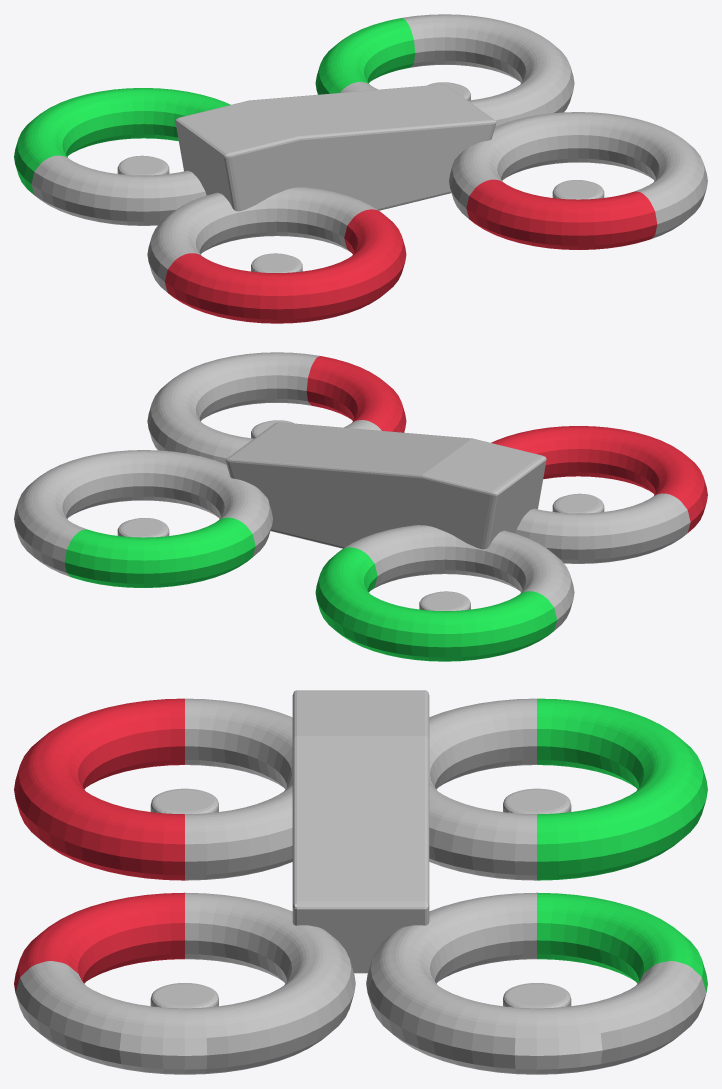
The model's file is DroneBlack.fbx.
3 renders of one model, top to bottom at view 1: azimuth 30°, elevation 25°; view 2: azimuth 150°, elevation 25°; view 3: azimuth 270°, elevation 25°, orthographic. The views are drawn at different scales.
Visible parts, largest first — view 1: Drone; view 2: Drone; view 3: Drone.
Boxes of the visible parts, box(x1,y1,x2,y2) form: Drone: box(14, 14, 707, 323); Drone: box(14, 352, 707, 661); Drone: box(14, 690, 707, 1074).
Bounding box in the file's own units: 508 × 586 × 135.
